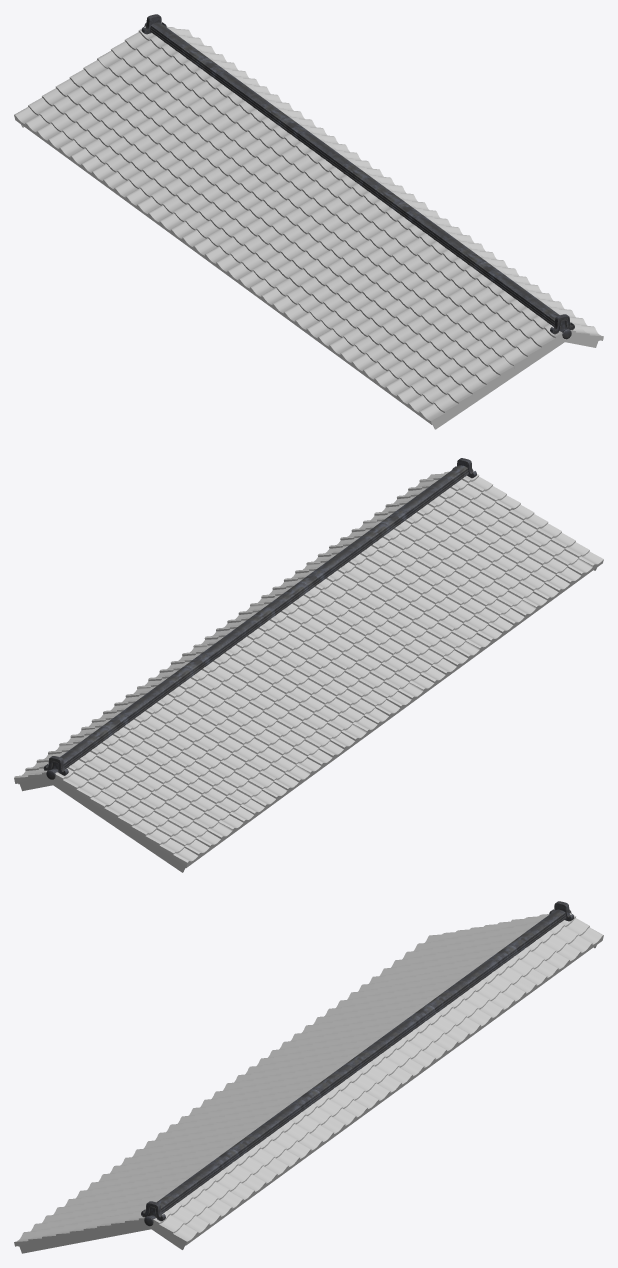
The model's file is SM_KYT_Roof1F_A_L1.fbx.
3 renders of one model, top to bottom at view 1: azimuth 30°, elevation 25°; view 2: azimuth 150°, elevation 25°; view 3: azimuth 330°, elevation 25°, orthographic.
Parts seen in each view (by area): view 1: SM_KYT_Roof1F_A_L1_LOD0; view 2: SM_KYT_Roof1F_A_L1_LOD0; view 3: SM_KYT_Roof1F_A_L1_LOD0.
Part boxes in pixels (<box>): SM_KYT_Roof1F_A_L1_LOD0: <box>14,14,603,429</box>; SM_KYT_Roof1F_A_L1_LOD0: <box>14,458,603,872</box>; SM_KYT_Roof1F_A_L1_LOD0: <box>14,901,603,1253</box>.
Bounding box in the file's own units: 213 × 890 × 95.85.
